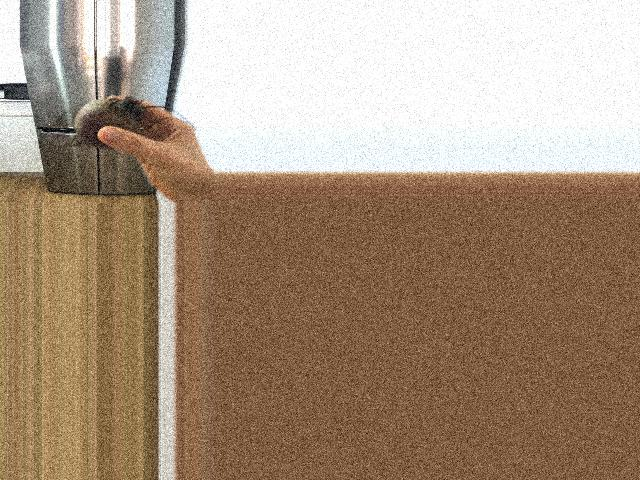beet: (62, 96, 195, 148)
